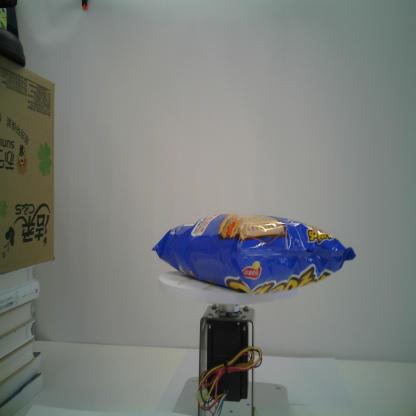Puffed Food: (151, 208, 359, 300)
